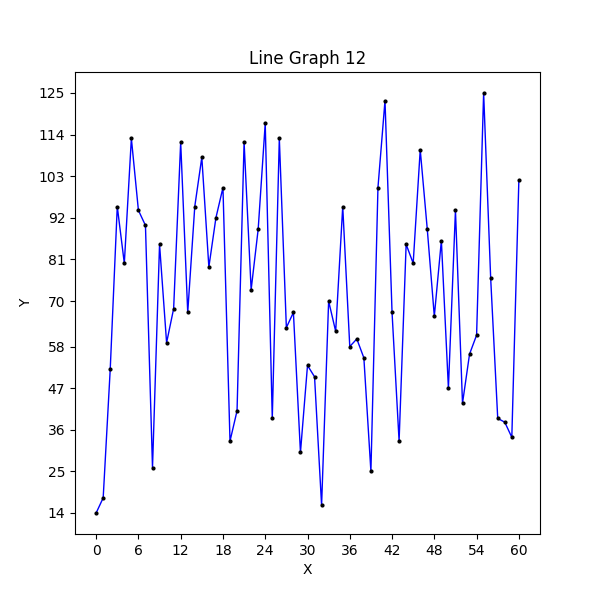cvs: (75, 72, 540, 534)
